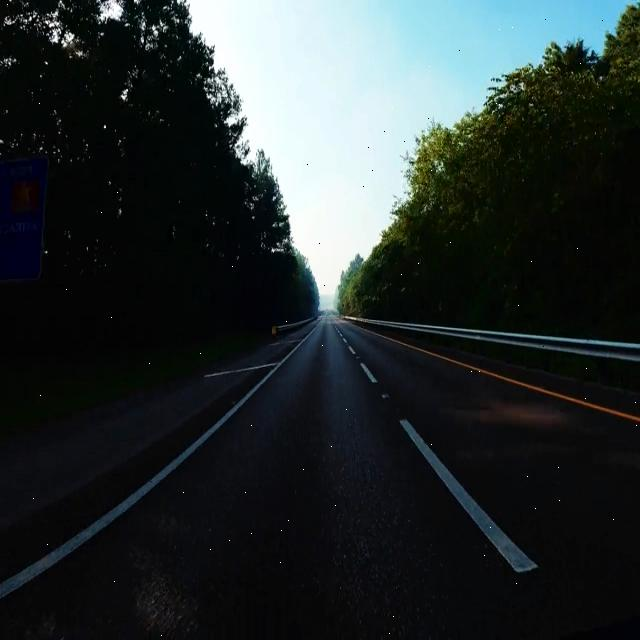road: (0, 320, 640, 637), (0, 401, 221, 580)
